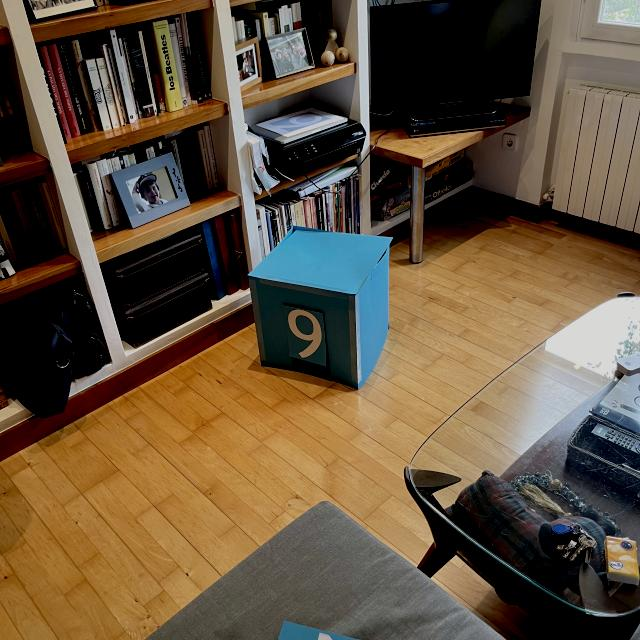box: (244, 221, 396, 392)
